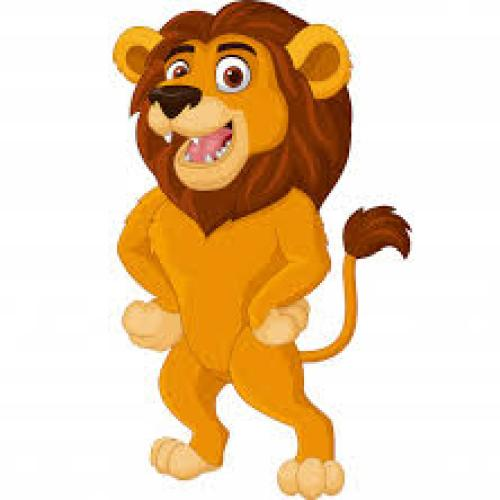lion-endangered: (111, 0, 409, 500)
